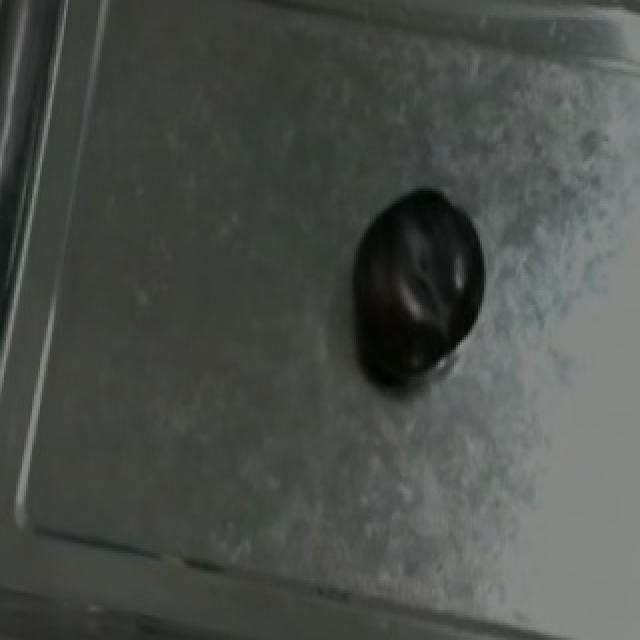Fruit: (336, 171, 496, 392)
